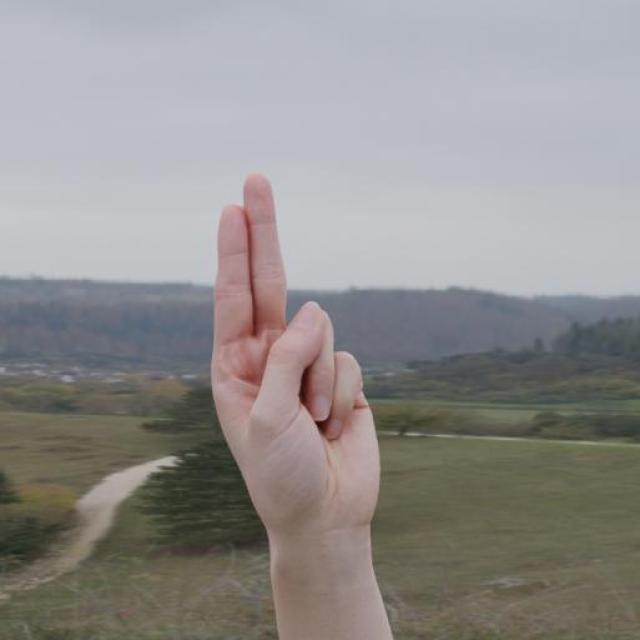U: (203, 170, 392, 524)
